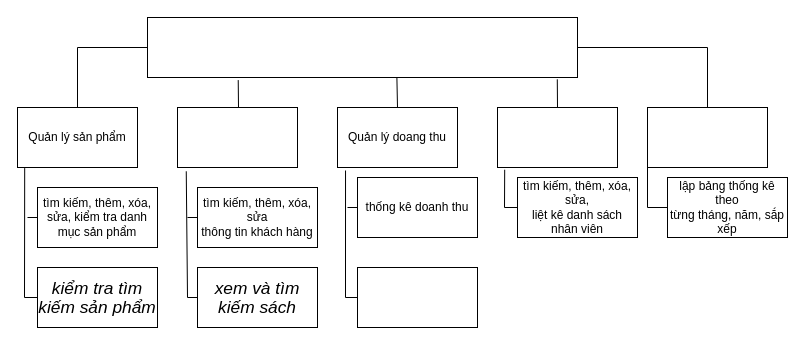
Image size: 805x345. Some labels were removed from this diagram. The box of each missing label's shape, as (x1, y1, x2, y2) in pixels:
báo cáo thống kê: (356, 266, 478, 328)
Quản lý khách hàng: (176, 106, 298, 168)
Quản lý mua bán sách: (146, 16, 578, 78)
Quản lý nhân viên: (496, 106, 618, 168)
Quản lý thống kê: (646, 106, 768, 168)
